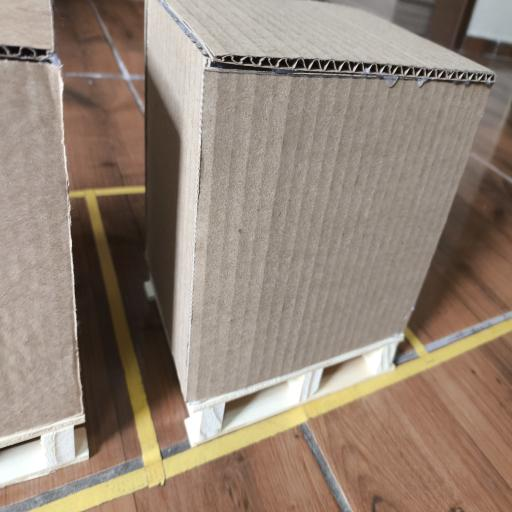pallet: (185, 334, 403, 446), (0, 426, 89, 488)
